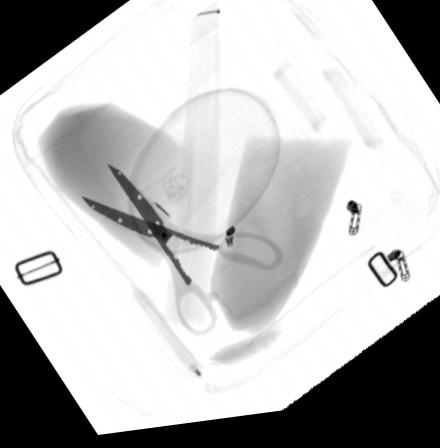Scissors: (79, 165, 283, 340)
